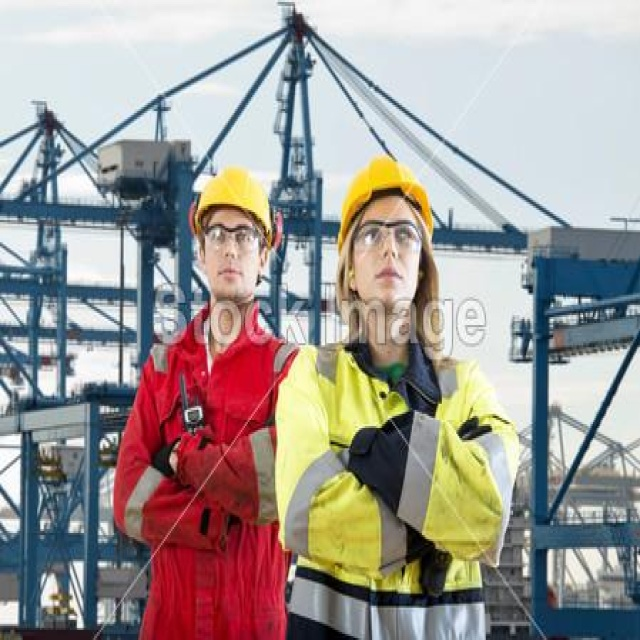Helmet: (334, 145, 437, 320), (187, 158, 280, 312)
Reflective vest: (280, 337, 518, 640), (115, 316, 289, 640)
